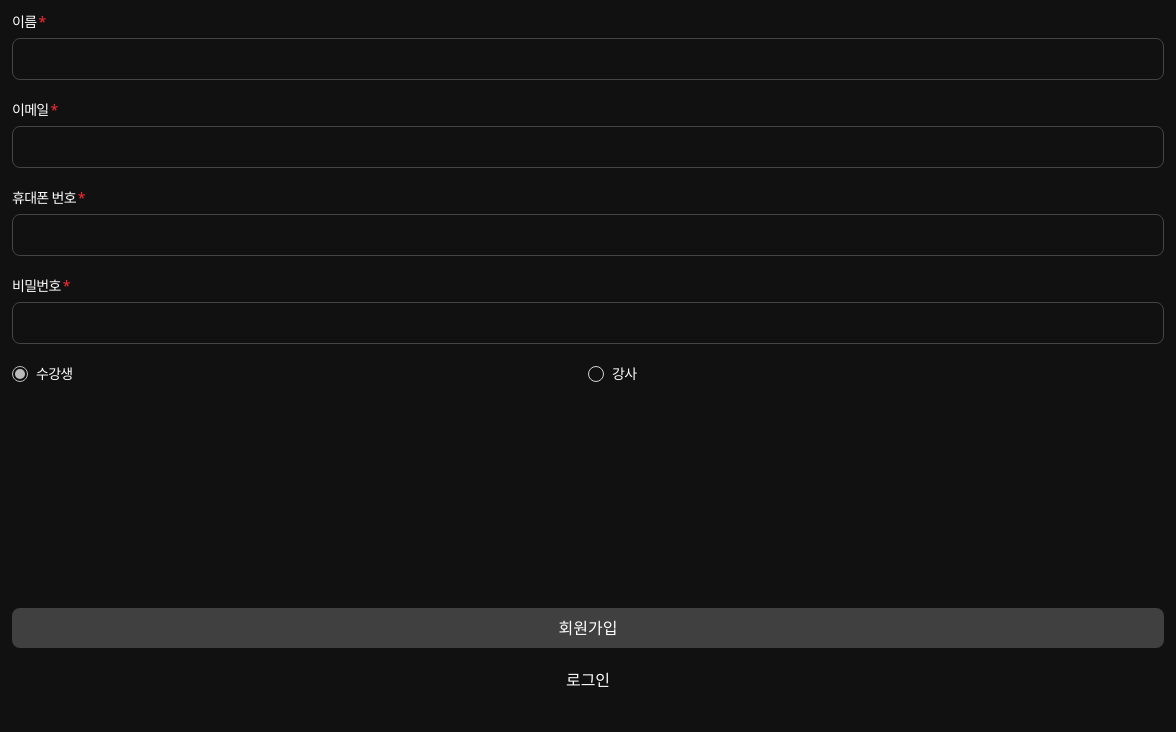
Scenario: 시나리오 2: 회원가입 (/signup) › 유효성 검사 › 휴대폰 번호 형식이 올바르지 않으면 에러 메시지를 보여준다
Type "홍길동" into the field labelled "이름*" at point(588, 59), box [12,38,1164,80]
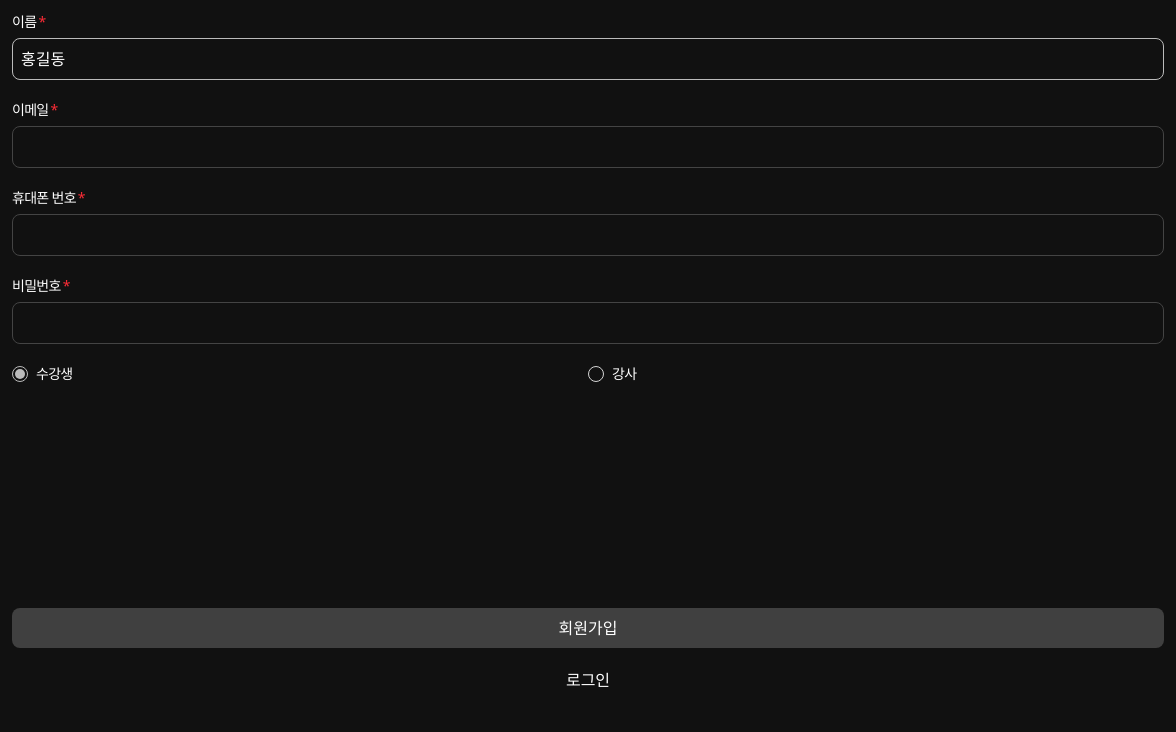
Type "user@example.com" into the field labelled "이메일*" at point(588, 147), box [12,126,1164,168]
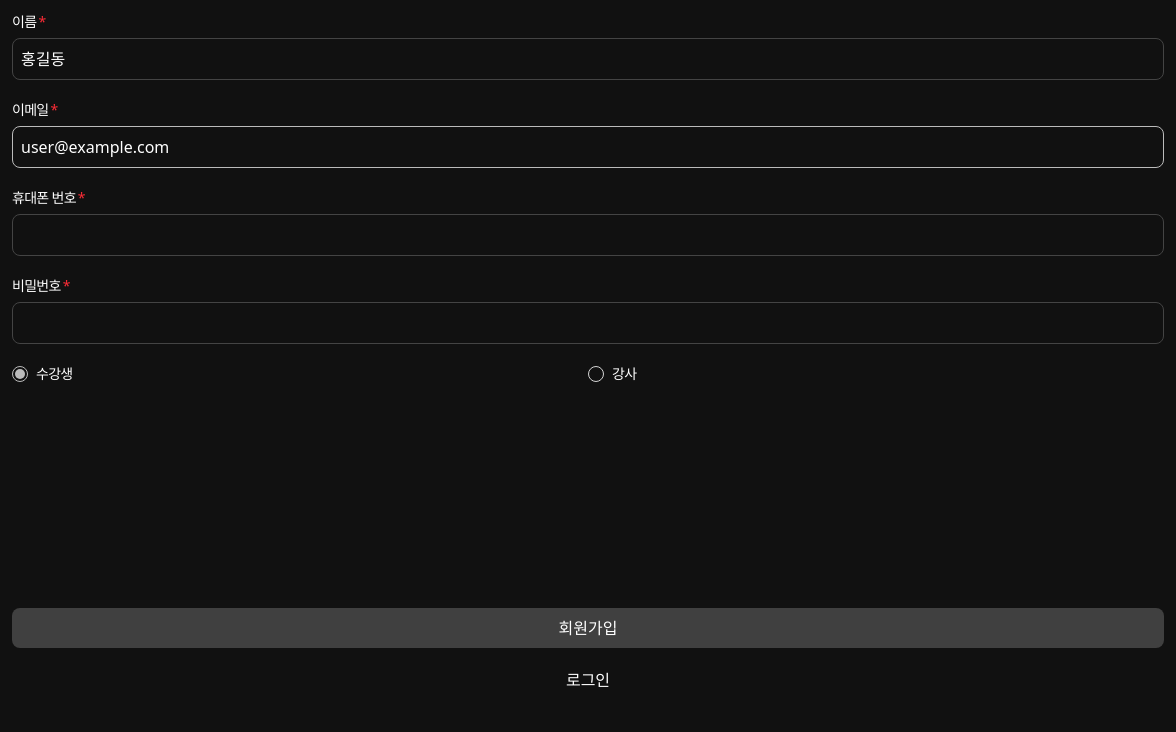
Type "123" into the field labelled "휴대폰 번호*" at point(588, 235), box [12,214,1164,256]
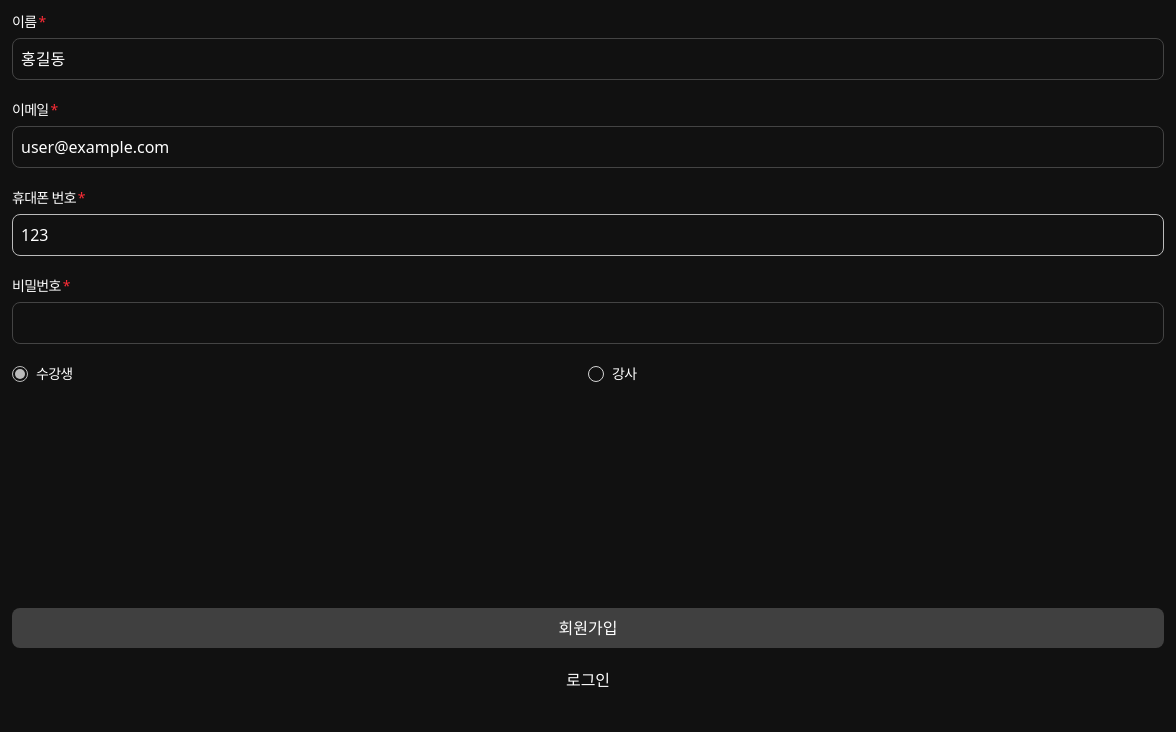
Type "pass1word" into the password field labelled "비밀번호*" at point(588, 323), box [12,302,1164,344]
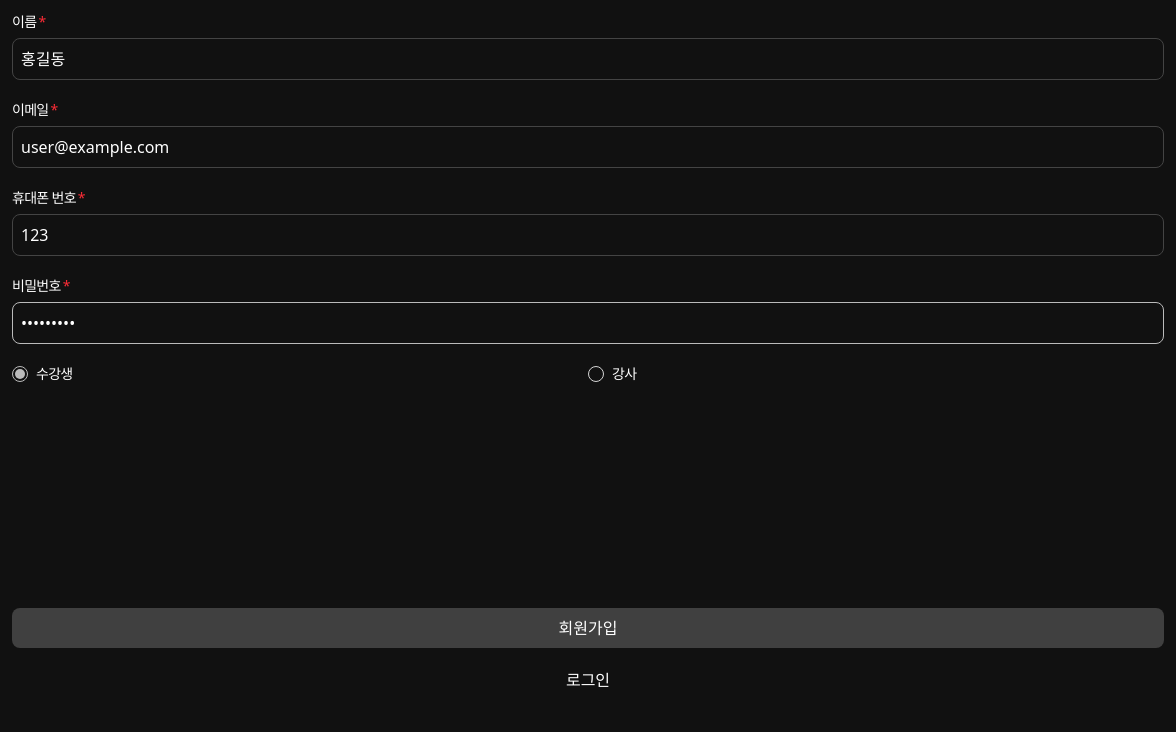
Click the button "회원가입" at point(588, 628), box [12,608,1164,648]
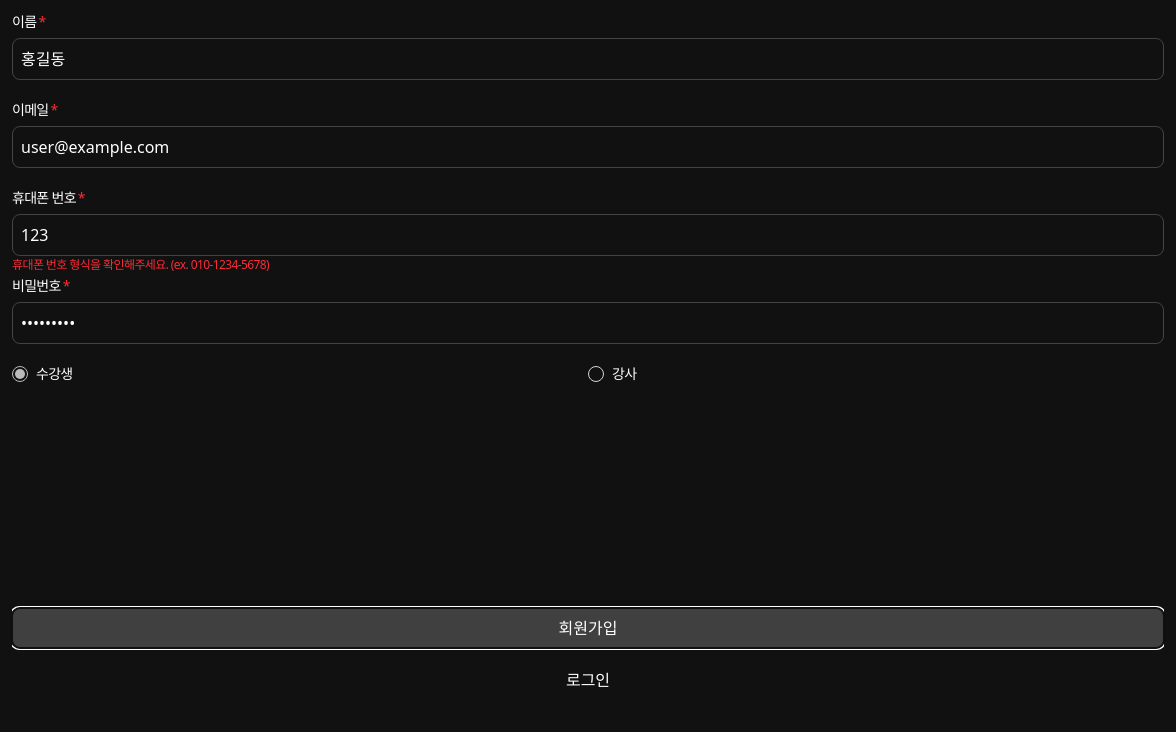
expect the text "휴대폰 번호 형식을 확인해주세요. (ex. 010-1234-5678)" is shown: met, box [12,256,269,274]
